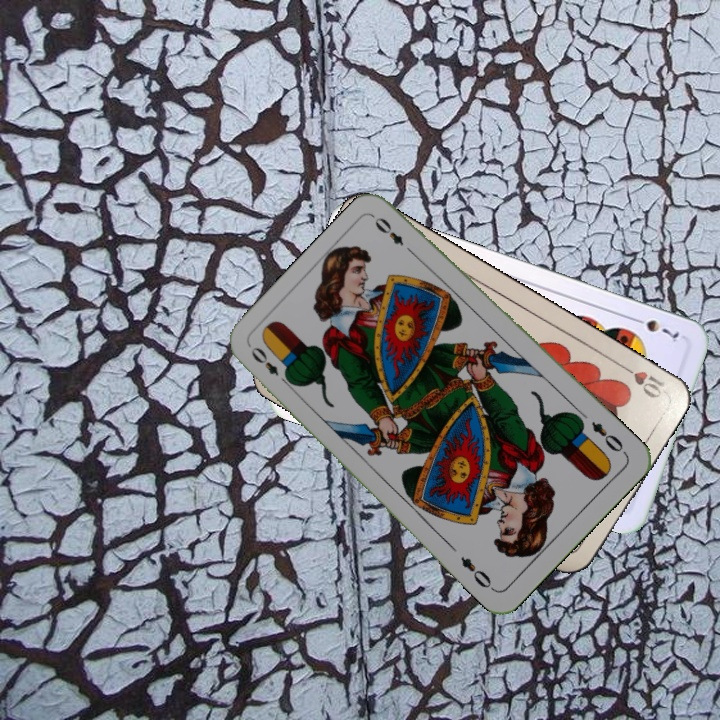EO: (246, 342, 294, 389), (587, 417, 629, 458)
H10: (614, 359, 668, 401)
S7: (628, 313, 682, 345)
